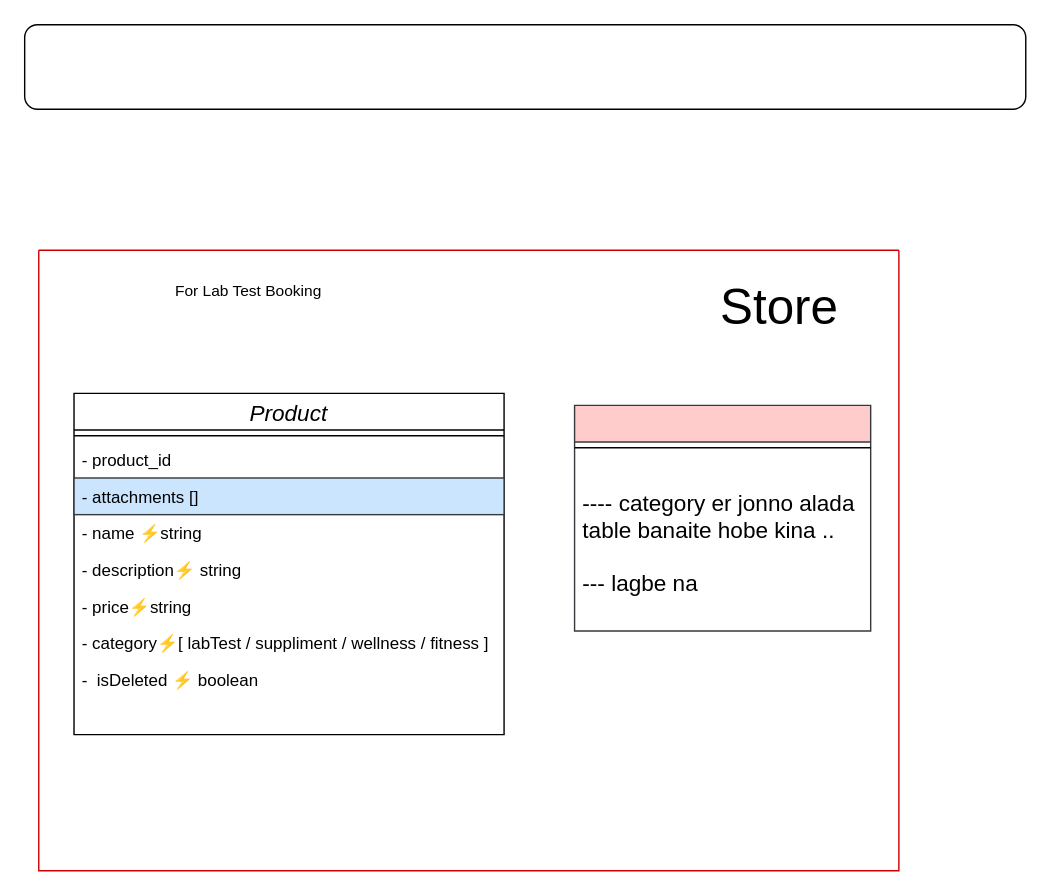
This 1050x895 diagram has some shape labels left out. The shapes that lost their labels are listed below. From the top down, each one's box as (x1, y1, x2, y2) in pixels, then its label:
(23, 23, 1026, 109): Last Updated at 2 / 08 / 2025
(573, 404, 871, 631): ISSUE
